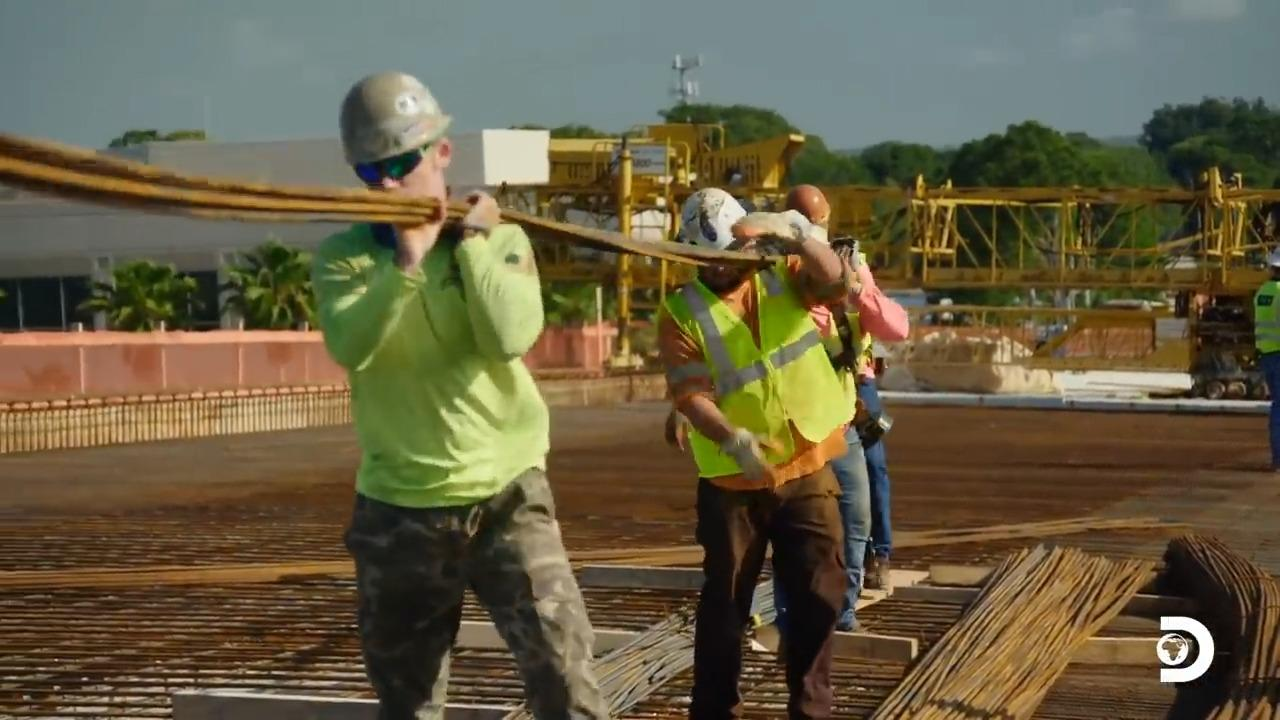Gloves: (725, 419, 779, 499), (736, 205, 807, 250), (397, 192, 441, 260), (451, 192, 496, 237)
Helmet: (338, 70, 451, 167), (673, 184, 761, 259), (783, 179, 836, 235)
Person: (309, 70, 611, 719), (656, 186, 857, 719), (1252, 246, 1279, 471)
Safety Boot: (866, 556, 898, 590)
Safety Vest: (347, 274, 536, 489), (698, 300, 828, 471)
